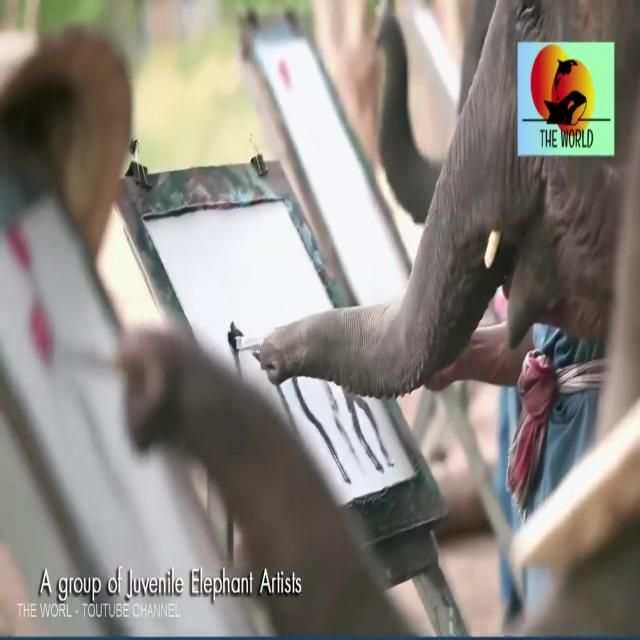Elephant: (267, 4, 619, 378)
